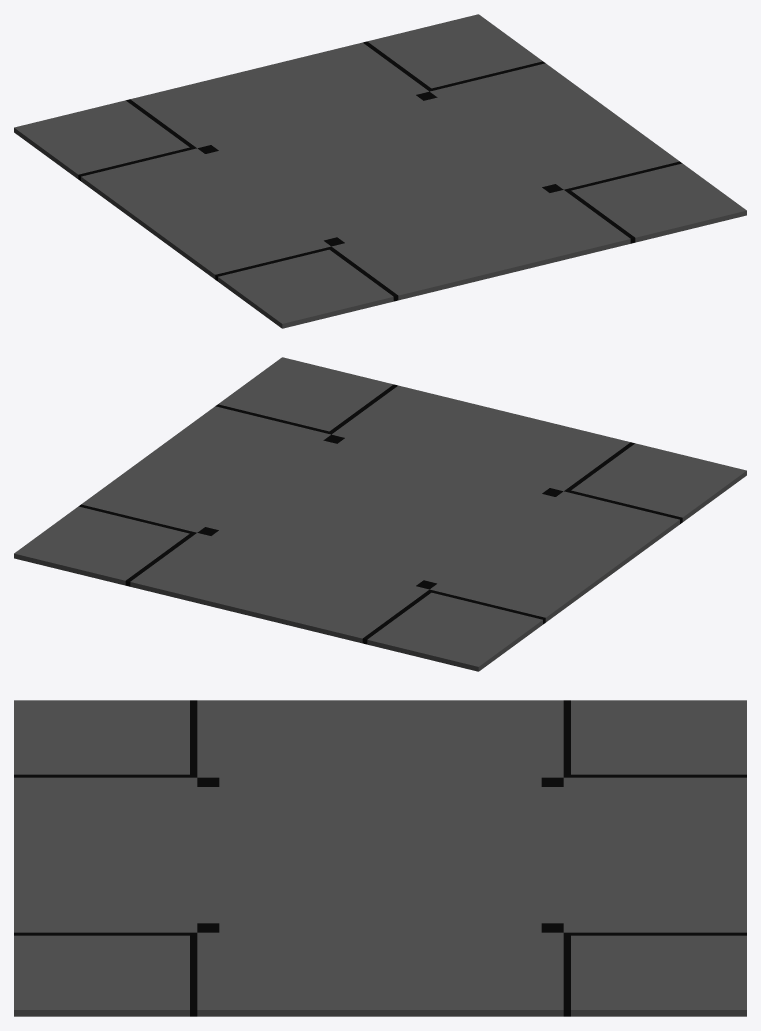
Rendered from Floor.obj.
3 renders of one model, top to bottom at view 1: azimuth 30°, elevation 25°; view 2: azimuth 150°, elevation 25°; view 3: azimuth 270°, elevation 25°, orthographic. The views are drawn at different scales.
Bounding box in the file's own units: 10 × 0.1 × 10.
